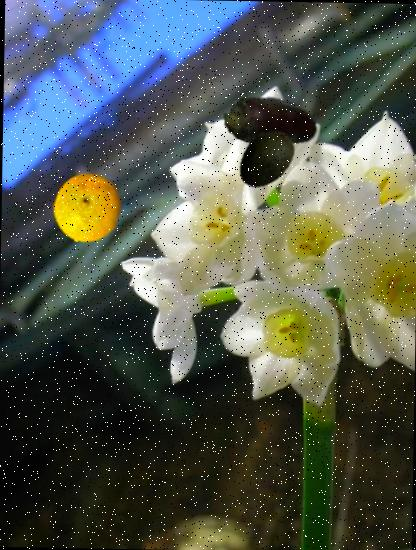Avocado: (233, 126, 298, 192)
Cantaloupe: (51, 172, 124, 244)
Eggplant: (220, 71, 320, 171)
